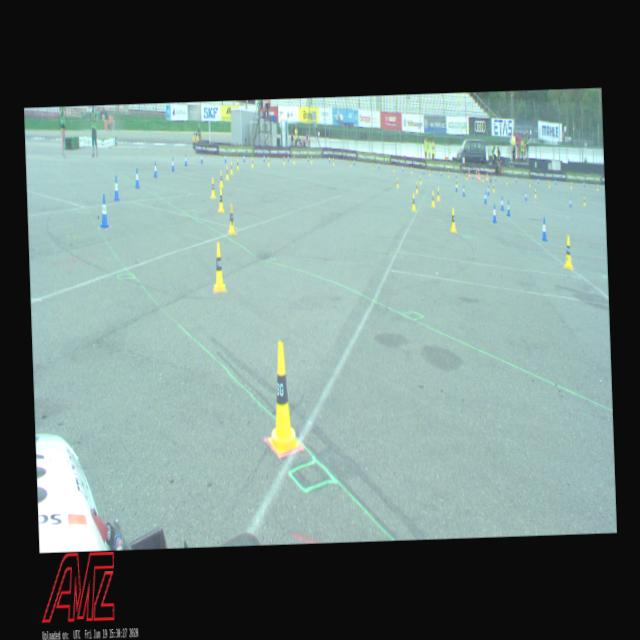blue_cone: (99, 194, 108, 228), (112, 175, 120, 200), (540, 218, 547, 240), (134, 168, 140, 188), (152, 160, 158, 178), (492, 203, 496, 223), (499, 196, 504, 210), (506, 200, 510, 216), (171, 157, 174, 170), (184, 154, 187, 166), (224, 152, 227, 162), (484, 190, 486, 203), (462, 185, 464, 196), (569, 197, 571, 207), (200, 152, 202, 162), (486, 185, 488, 195), (243, 153, 245, 162), (524, 192, 526, 200), (263, 154, 265, 162)
yellow_cone: (264, 340, 300, 454), (212, 242, 226, 292), (563, 235, 573, 269), (227, 202, 235, 235), (449, 208, 456, 232), (217, 187, 223, 212), (210, 178, 216, 198), (410, 192, 416, 211), (218, 170, 222, 188), (430, 190, 434, 207), (436, 186, 440, 202), (225, 164, 229, 179), (414, 180, 418, 193), (250, 156, 253, 168), (230, 161, 232, 174), (236, 158, 238, 170), (396, 176, 398, 187), (583, 196, 585, 206), (268, 156, 270, 166), (419, 174, 421, 184), (534, 188, 536, 197), (292, 155, 294, 164), (310, 155, 312, 164), (492, 183, 494, 192), (282, 156, 284, 164), (332, 156, 334, 164)
